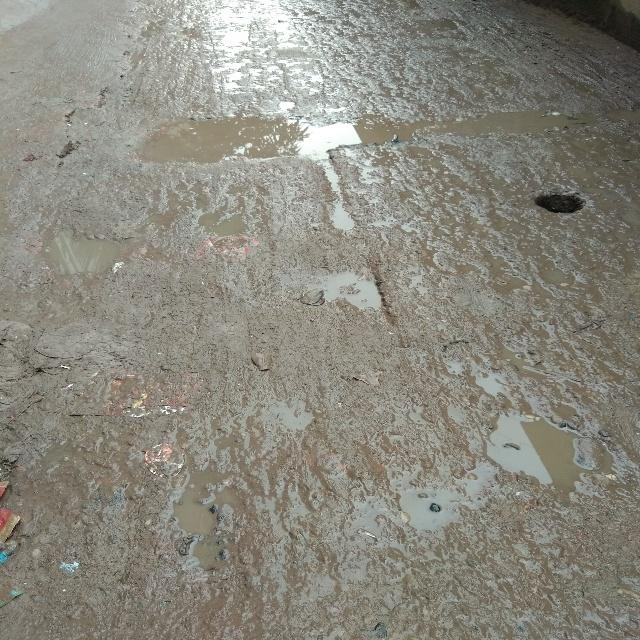Pothole: (529, 177, 600, 234)
Surface Erosion: (0, 0, 640, 640)
